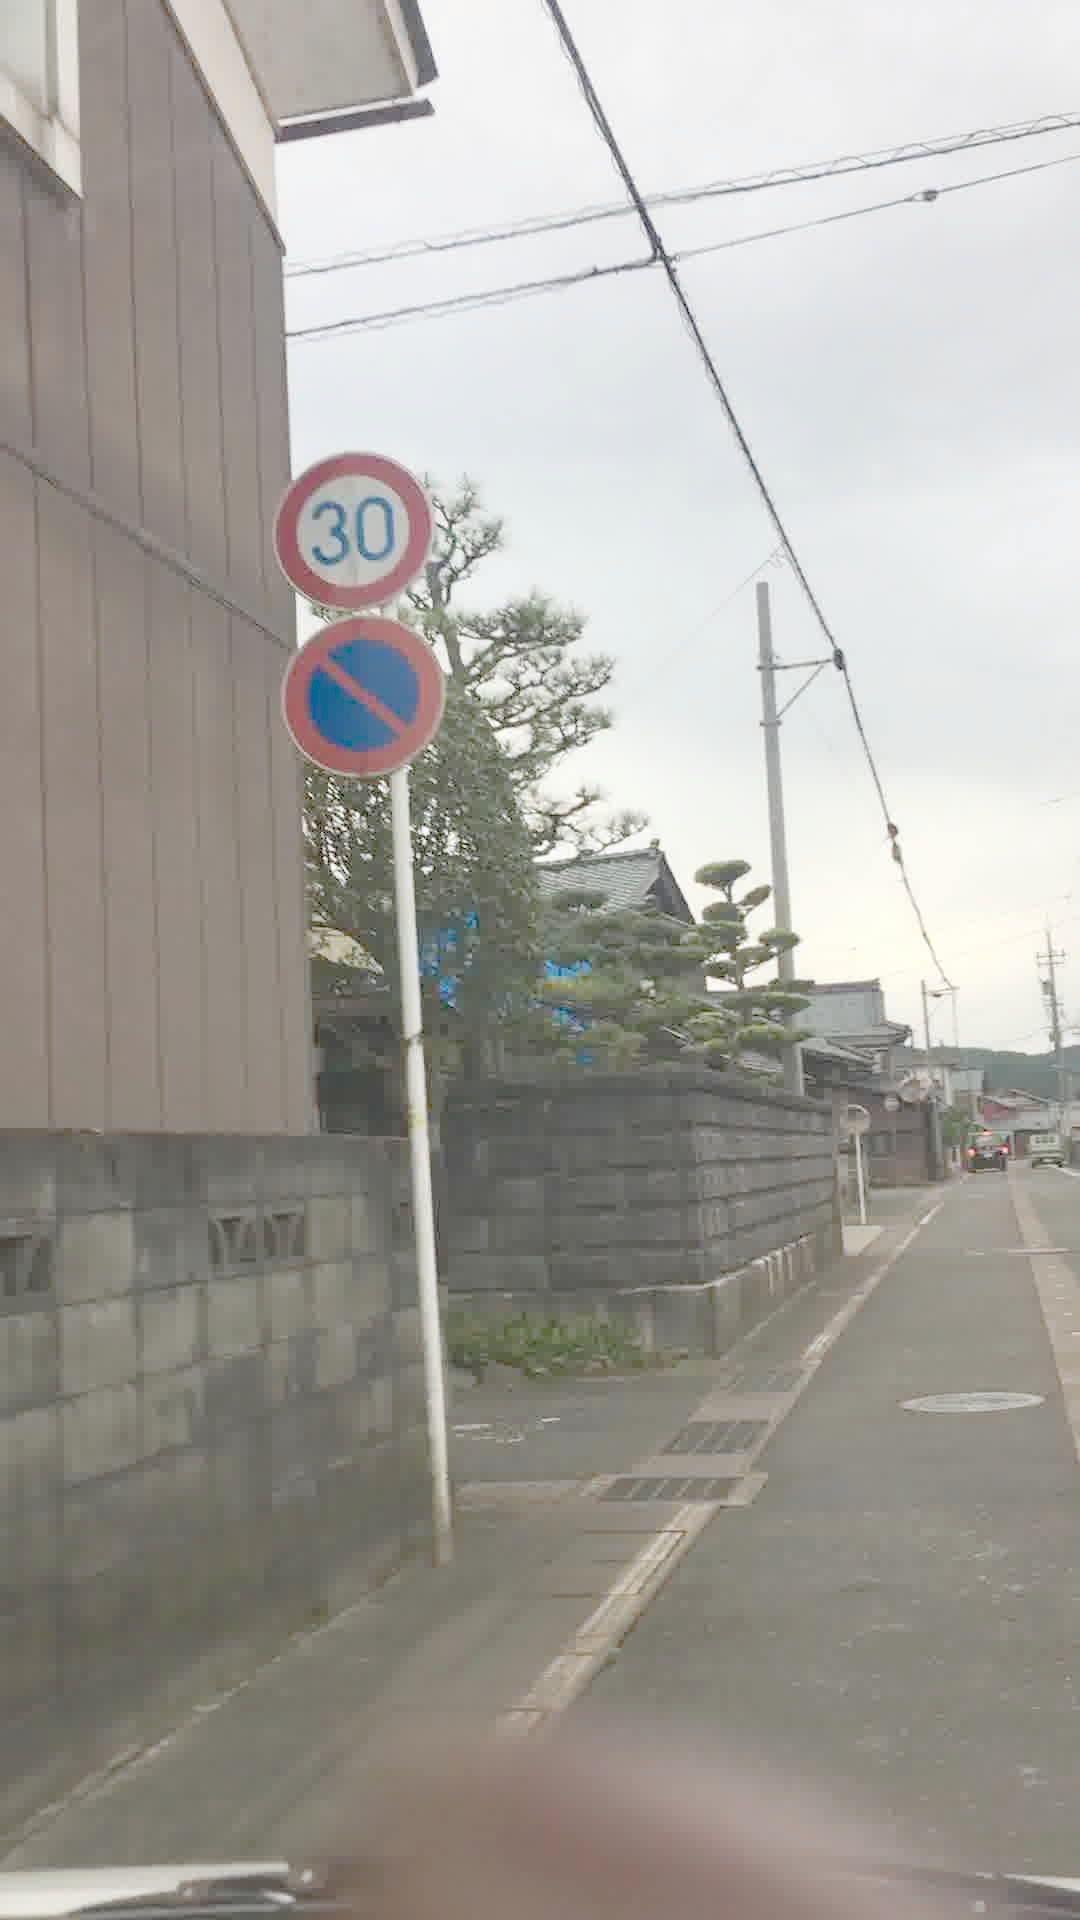Prohibition_sign: (290, 628, 448, 785)
Speed_sign: (266, 452, 448, 616)
